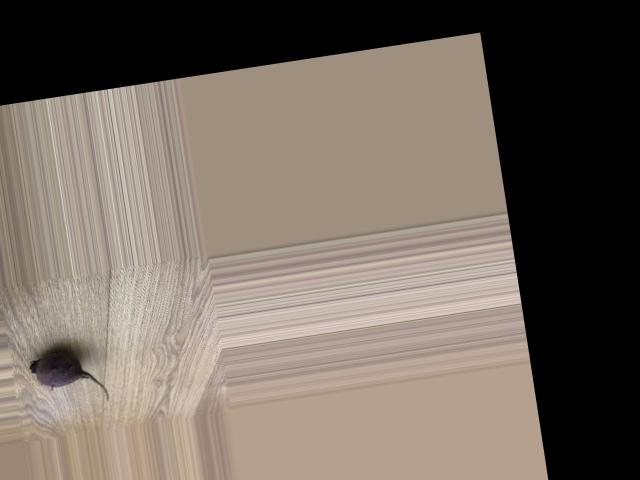beet: (29, 345, 111, 411)
